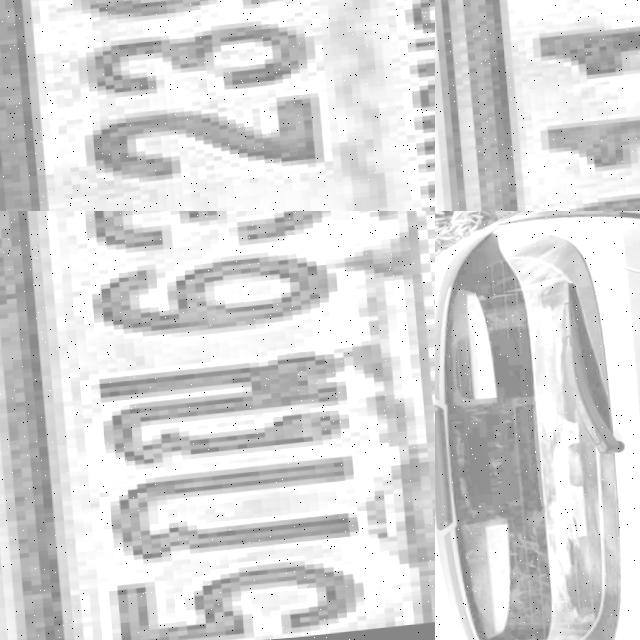license-plate: (0, 211, 435, 640), (0, 0, 435, 211), (435, 0, 640, 211)
